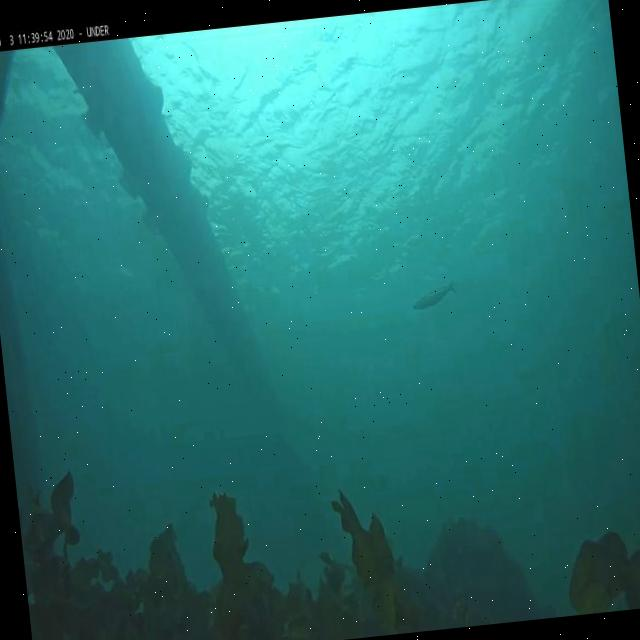fish: (412, 285, 458, 321)
